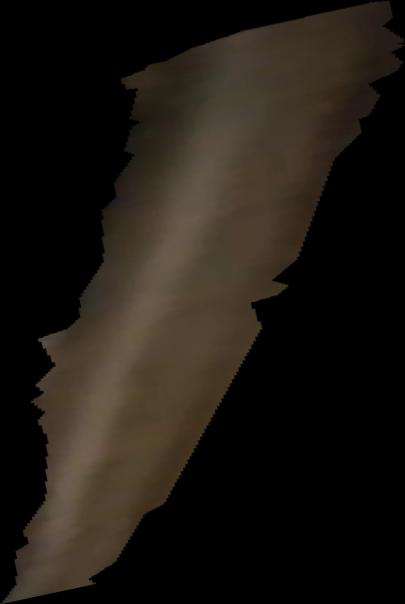backward: (1, 1, 405, 604)
